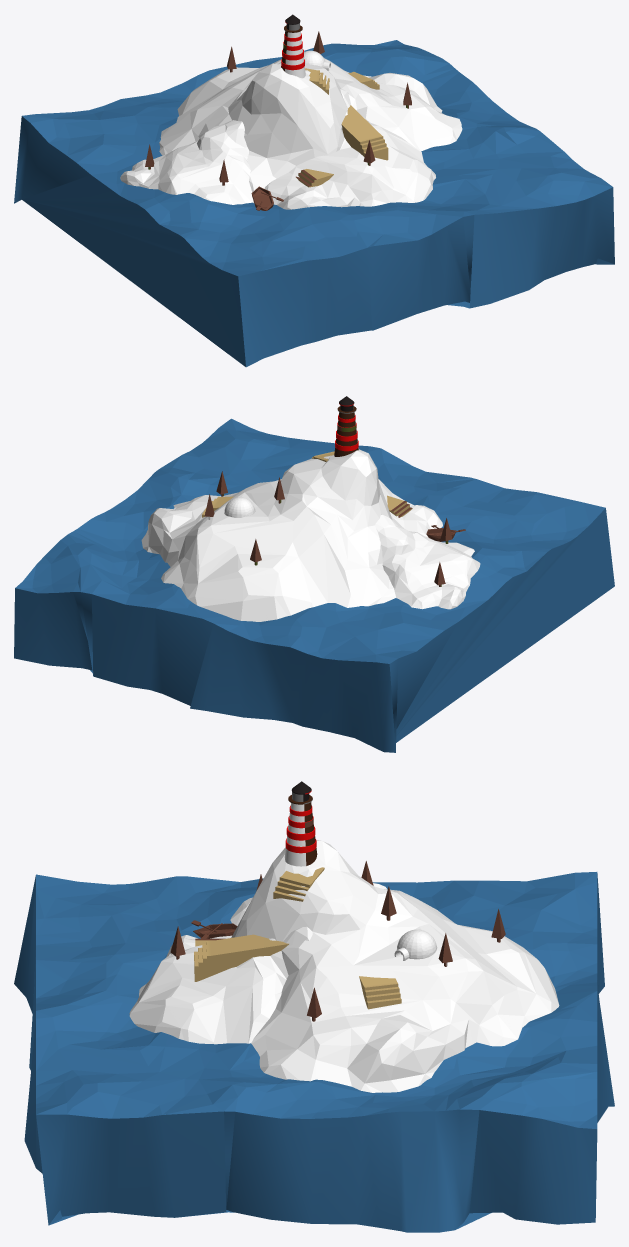
The model's file is diorama.obj.
The picture shows the model from 3 angles, top to bottom: view 1: azimuth 30°, elevation 25°; view 2: azimuth 150°, elevation 25°; view 3: azimuth 270°, elevation 25°; orthographic projection. The views are drawn at different scales.
Visible parts, largest first — view 1: ocean, rock3, rock2, rock1, stair2, polySurface35; view 2: ocean, rock3, rock1, rock2, polySurface35, polySurface13; view 3: ocean, rock3, rock2, stair2, polySurface35, stair4, stair3, polySurface13.
Boxes of the visible parts, left/top/right/bottom form: ocean: left=14, top=40, right=614, bottom=367; rock3: left=159, top=51, right=462, bottom=191; rock2: left=253, top=89, right=435, bottom=209; rock1: left=120, top=120, right=253, bottom=204; stair2: left=341, top=105, right=388, bottom=160; polySurface35: left=281, top=31, right=305, bottom=78; ocean: left=14, top=418, right=614, bottom=752; rock3: left=141, top=449, right=409, bottom=621; rock1: left=375, top=514, right=480, bottom=609; rock2: left=378, top=479, right=442, bottom=537; polySurface35: left=334, top=412, right=358, bottom=456; polySurface13: left=224, top=497, right=255, bottom=517; ocean: left=14, top=872, right=614, bottom=1232; rock3: left=231, top=840, right=559, bottom=1092; rock2: left=129, top=926, right=312, bottom=1044; stair2: left=194, top=934, right=288, bottom=981; polySurface35: left=284, top=802, right=317, bottom=866; stair4: left=359, top=976, right=401, bottom=1009; stair3: left=273, top=867, right=324, bottom=901; polySurface13: left=397, top=929, right=437, bottom=959.
Bounding box in the file's own units: 2665 × 1597 × 2676.
